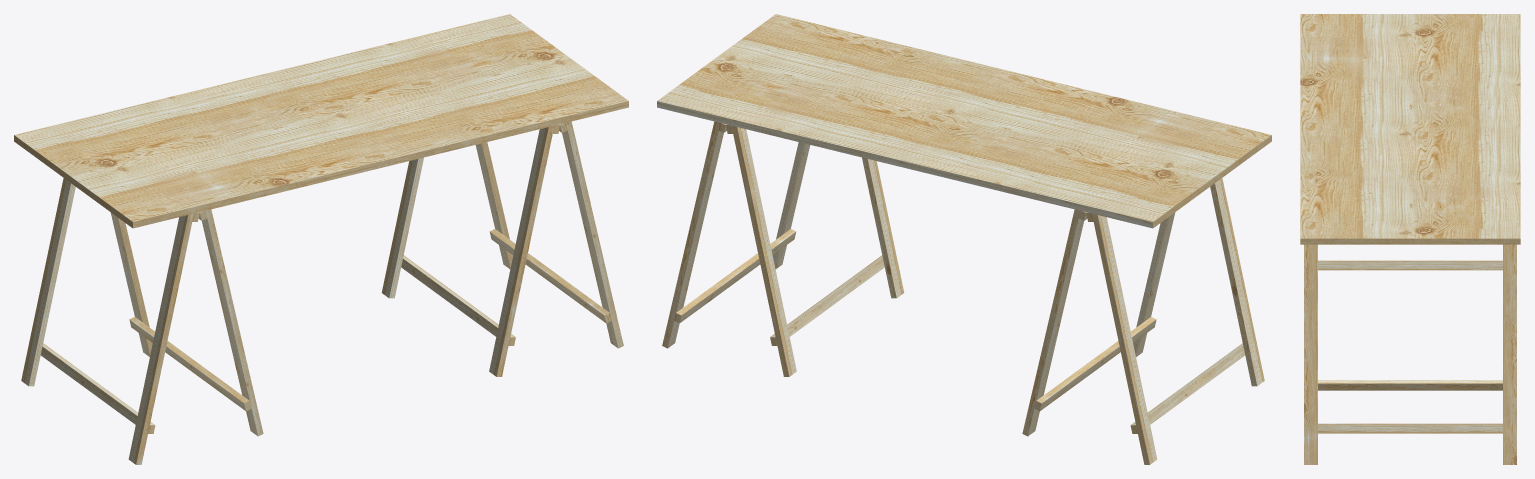
The model's file is table-on-trestles.obj.
The picture shows the model from 3 angles, left to right: view 1: azimuth 30°, elevation 25°; view 2: azimuth 150°, elevation 25°; view 3: azimuth 270°, elevation 25°; orthographic projection. The views are drawn at different scales.
Visible parts, largest first — view 1: table_Cube, LeftTrestle_Cube.001, rightTrestle_Cube.002; view 2: table_Cube, LeftTrestle_Cube.001, rightTrestle_Cube.002; view 3: table_Cube, rightTrestle_Cube.002, LeftTrestle_Cube.001.
Part boxes in pixels (x1,y1,x2,y2): table_Cube: [14, 14, 628, 228]; LeftTrestle_Cube.001: [21, 178, 263, 464]; rightTrestle_Cube.002: [381, 121, 623, 376]; table_Cube: [657, 14, 1271, 228]; LeftTrestle_Cube.001: [1022, 178, 1264, 464]; rightTrestle_Cube.002: [662, 121, 904, 376]; table_Cube: [1300, 14, 1520, 244]; rightTrestle_Cube.002: [1304, 244, 1516, 464]; LeftTrestle_Cube.001: [1318, 260, 1502, 270].
Size of the model in its own units: 160 by 76.13 by 66.42.
